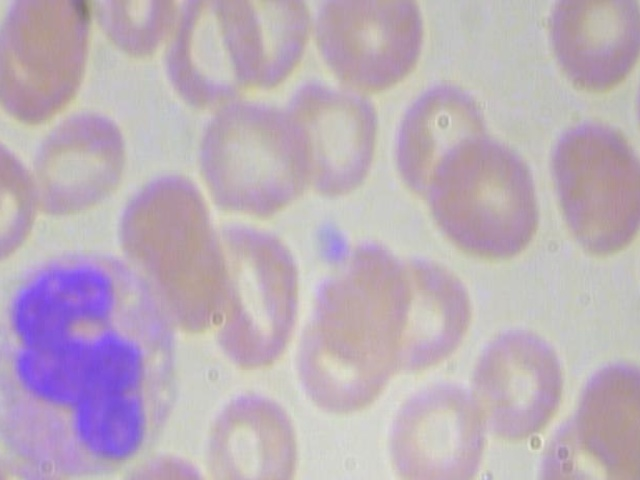Platelets: (304, 212, 353, 274)
RBC: (187, 221, 310, 371), (426, 129, 548, 268), (194, 92, 318, 223), (547, 116, 640, 277), (20, 94, 132, 224), (282, 77, 388, 201), (462, 317, 564, 442), (308, 0, 431, 99), (377, 380, 483, 480), (201, 380, 299, 480), (543, 0, 640, 93), (0, 0, 93, 77), (99, 0, 183, 64)
WBC: (0, 244, 189, 480)
